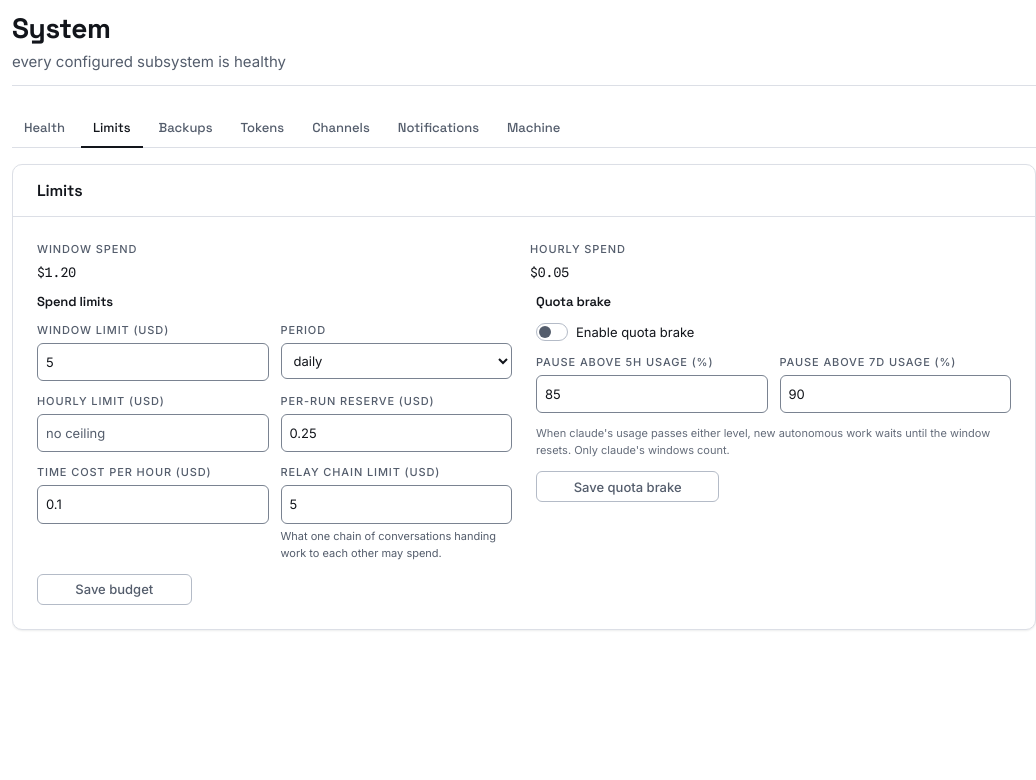
it: System - budget › names the hourly limit when that is the box that will not parse
This screenshot has width=1036, height=780.
Type "abc" into the field labelled "Hourly limit (USD)" at {"x": 153, "y": 433}, box 37,414 -> 268,452
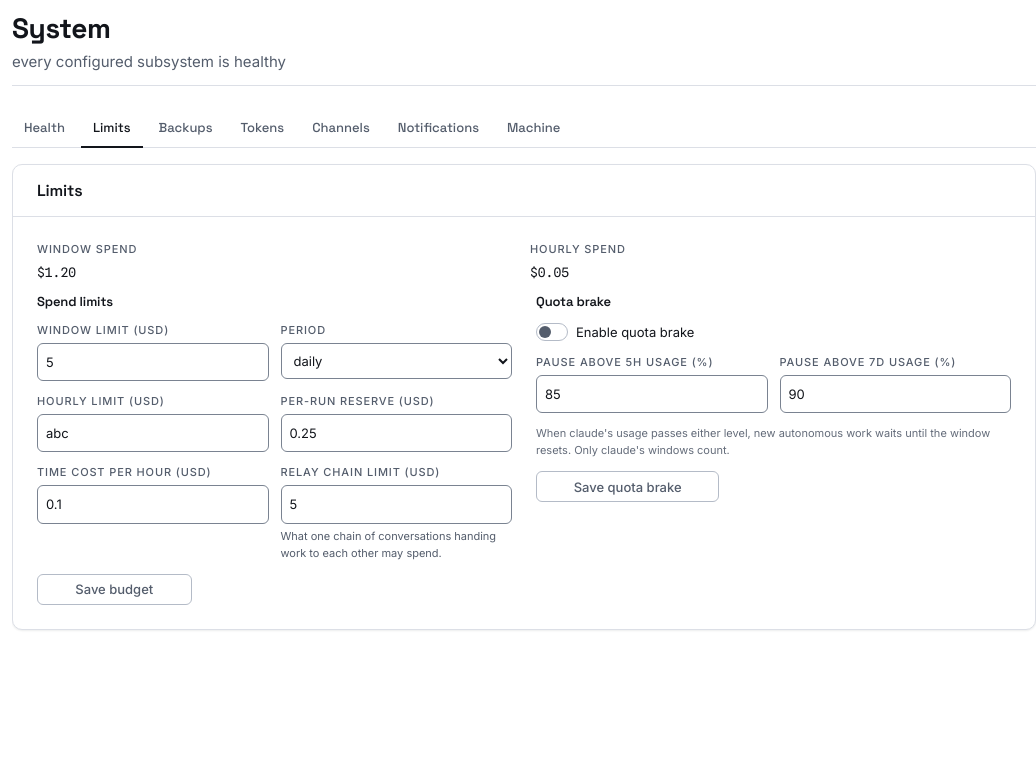
Click the button "Save budget" at {"x": 114, "y": 589}, box 37,574 -> 192,605
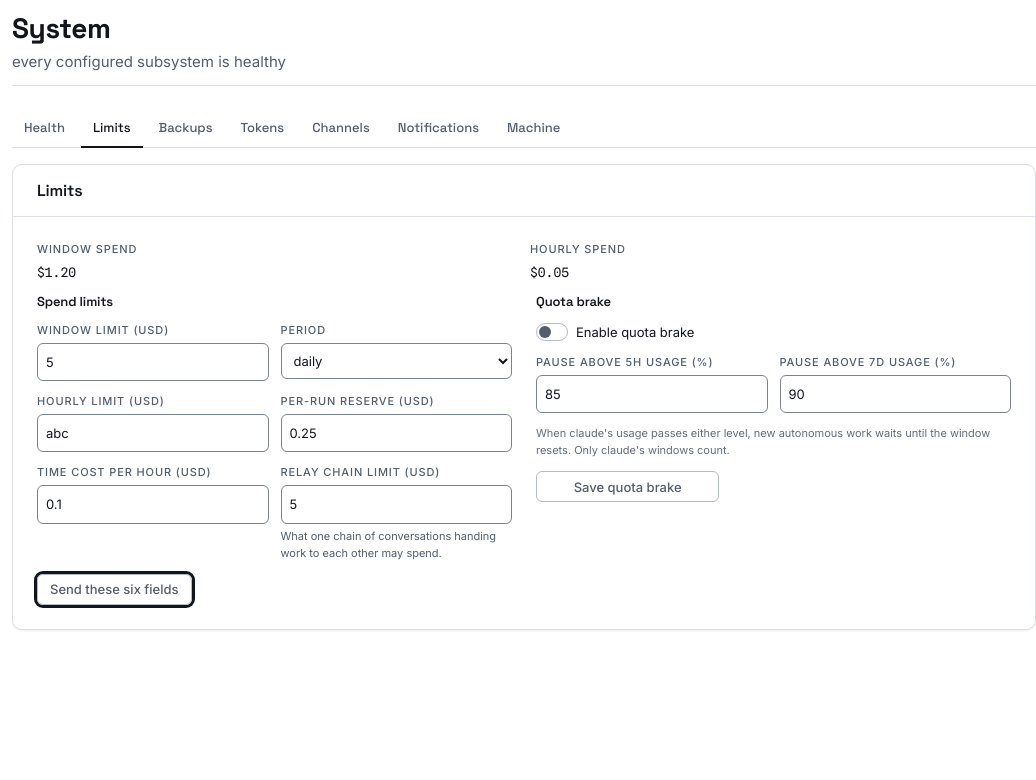
Click the button "Send these six fields" at {"x": 114, "y": 589}, box 37,574 -> 192,605
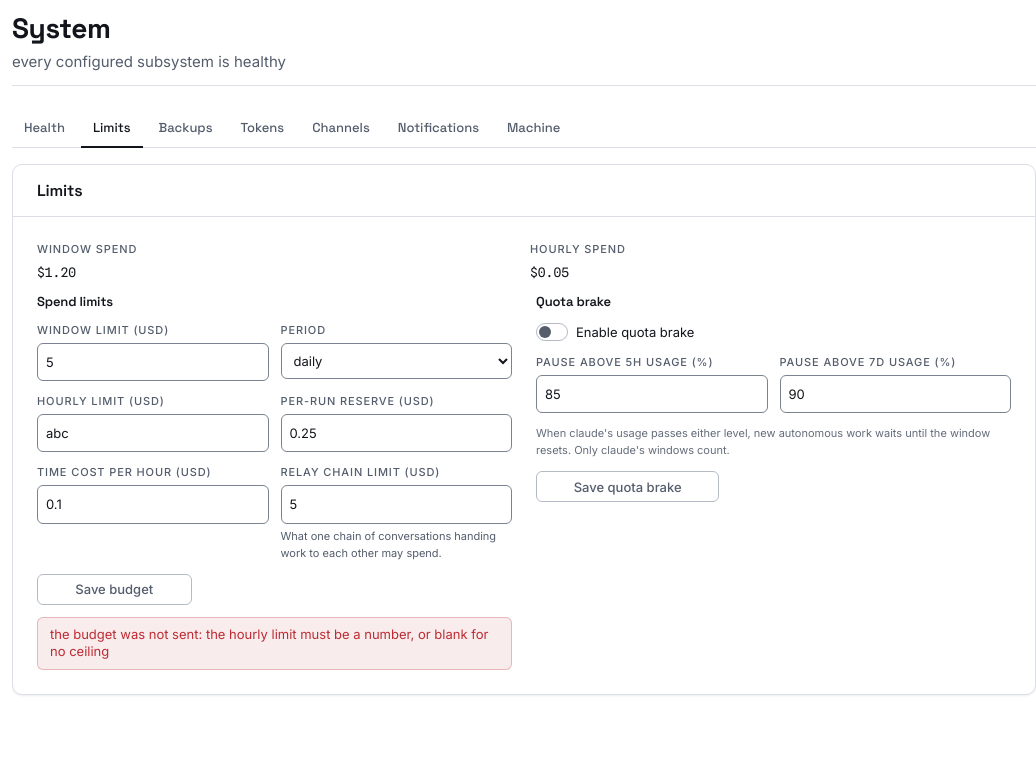
Check: the message shows "the hourly limit", box 206,626 -> 297,642
